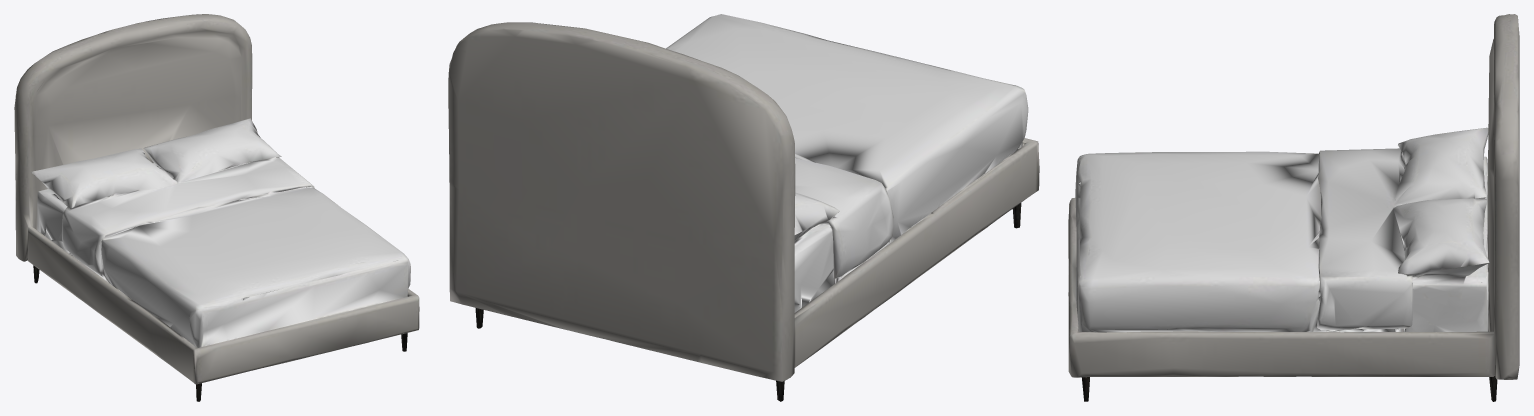
The model's file is bed.glb.
3 views of the same model, side by side, from view 1: azimuth 30°, elevation 25°; view 2: azimuth 150°, elevation 25°; view 3: azimuth 270°, elevation 25° (orthographic). The views are drawn at different scales.
Visible parts, largest first — view 1: world; view 2: world; view 3: world.
Boxes of the visible parts, left/top/right/bottom form: world: left=14, top=14, right=419, bottom=401; world: left=448, top=14, right=1039, bottom=401; world: left=1068, top=14, right=1519, bottom=401.
Size of the model in its own units: 0.7502 by 0.6946 by 1.
Materials: 1 (1 with a texture image).
